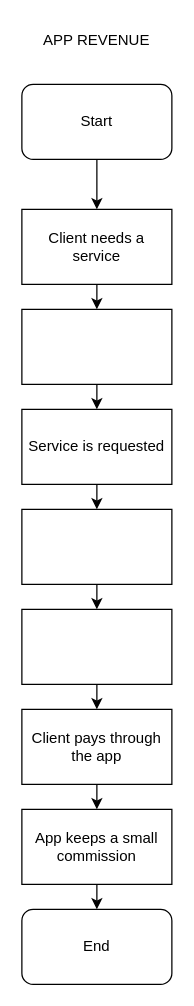
This 194x1006 diagram has some shape labels left out. Each missing label, with the centre of its shape:
Client finds a handyman: point (96, 346)
Handyman accepts the job: point (96, 546)
Service is completed: point (96, 646)
